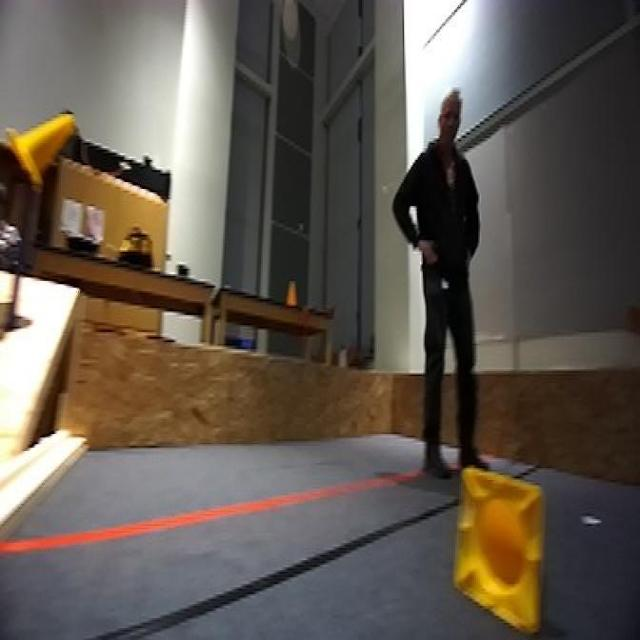frc_cone: (452, 464, 550, 632), (8, 109, 72, 184)
